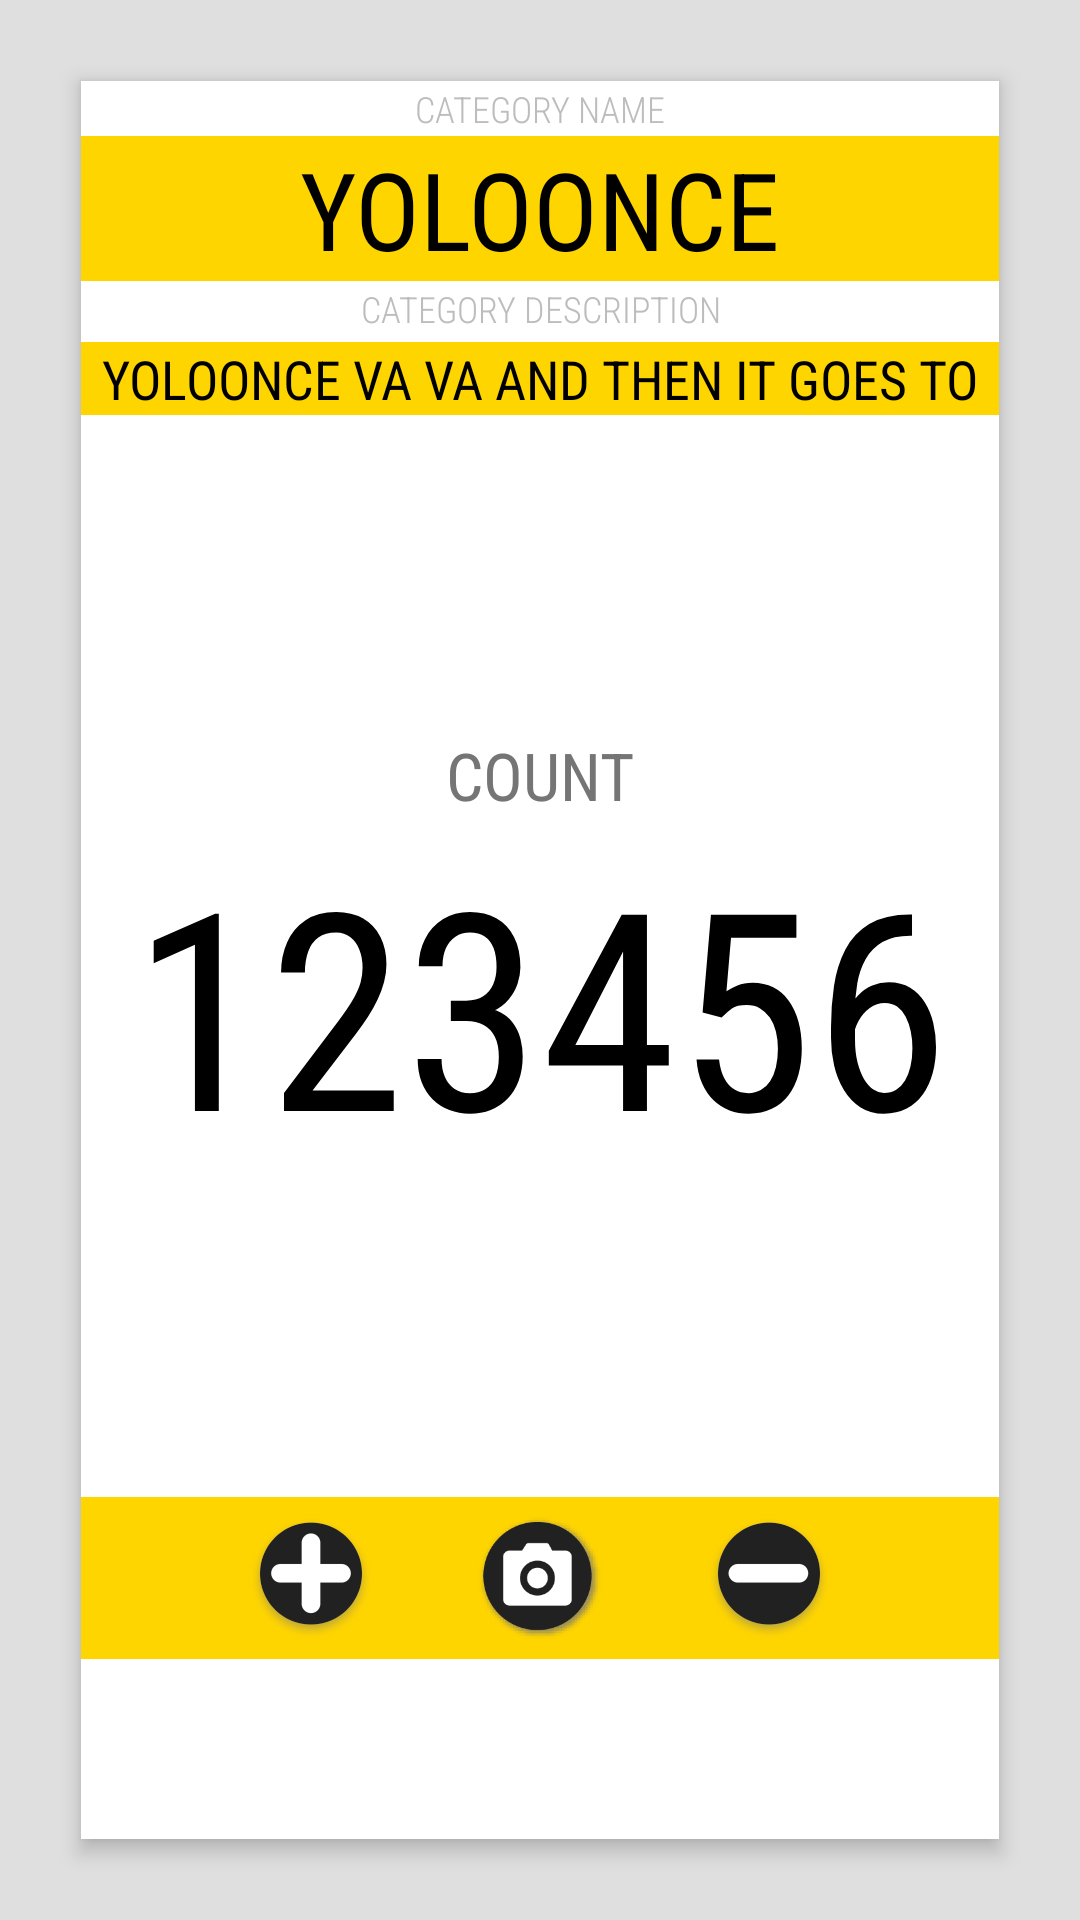

Where to tap for icons on this 1080 x 1920 app screen, as point (x, y):
circle camera: point (540, 1578)
minus: point (769, 1576)
plus: point (311, 1576)
